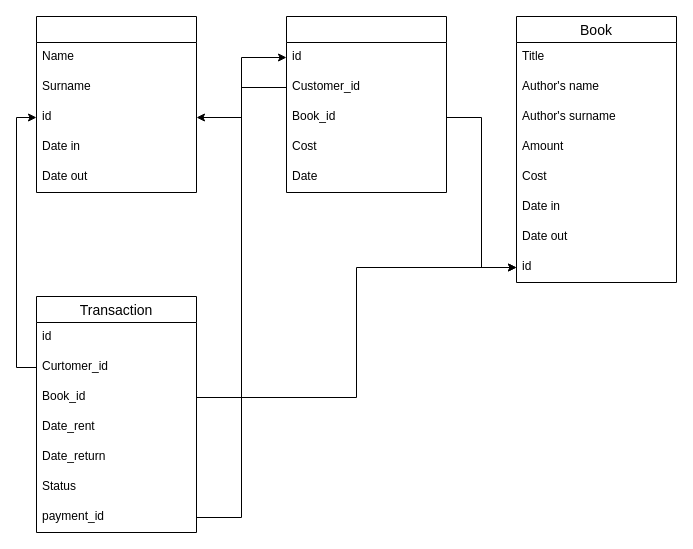
Image size: 693x549. Some labels were removed from this diagram. Here are the shapes that lost their labels. From the top down, the box of each, then its label:
(36, 16, 196, 192): Customer
(286, 16, 446, 192): Payments
